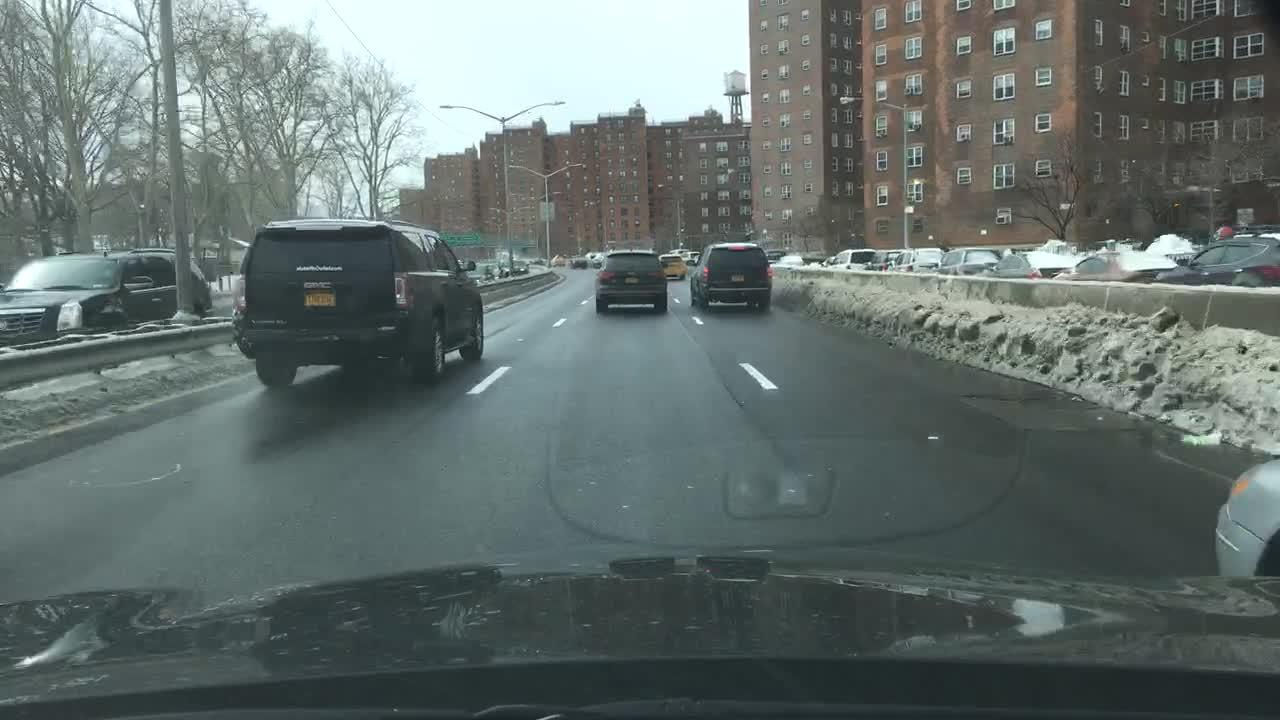GMC: (299, 275, 343, 298)
